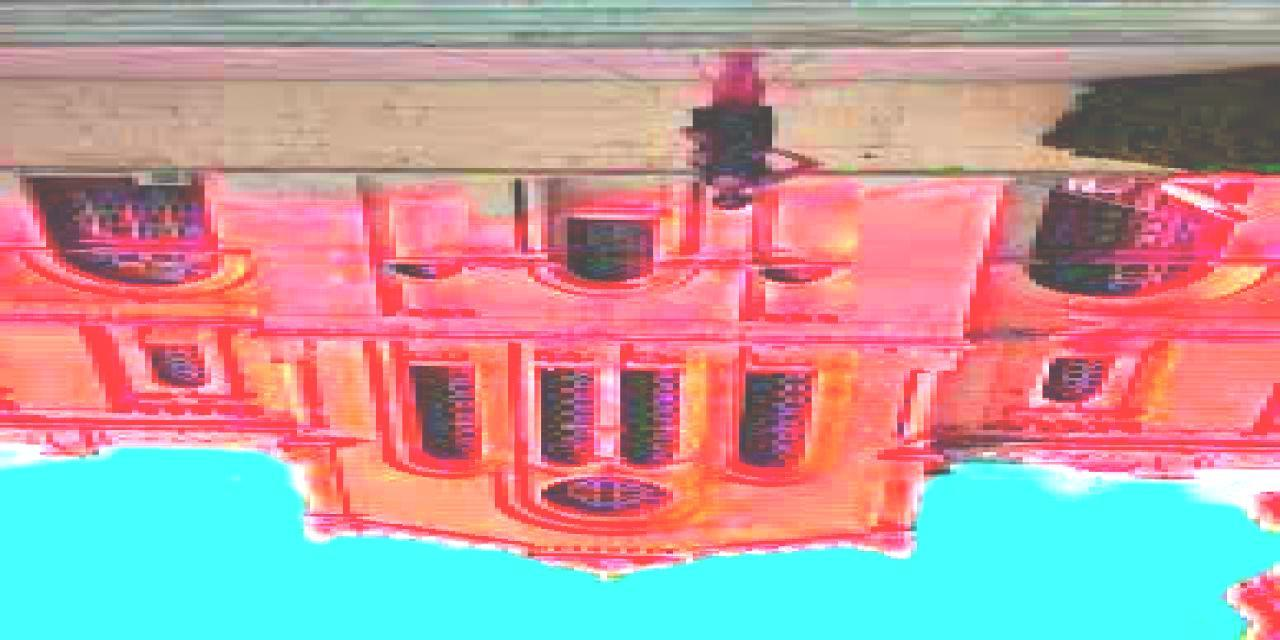Agios Minas: (1, 169, 1280, 640)
